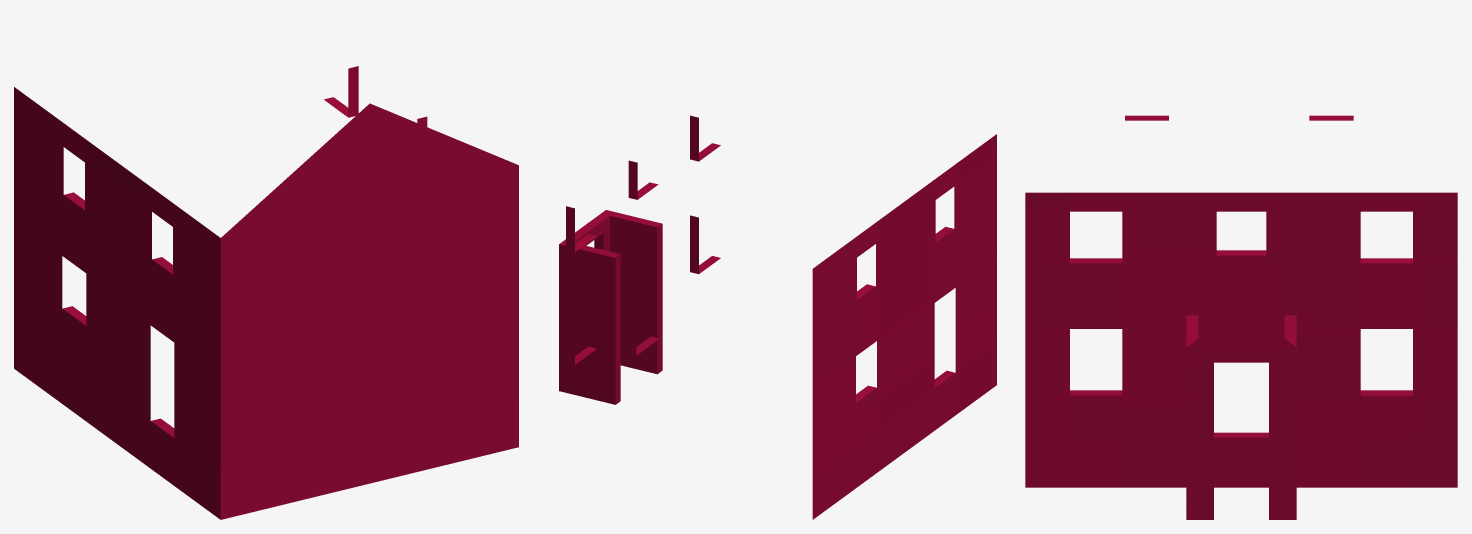
Rendered from SM_Bld_101_Masonry.glb.
3 views of the same model, side by side, from view 1: azimuth 30°, elevation 25°; view 2: azimuth 150°, elevation 25°; view 3: azimuth 270°, elevation 25° (orthographic). The views are drawn at different scales.
Visible parts, largest first — view 1: SM_Bld_101_Masonry; view 2: SM_Bld_101_Masonry; view 3: SM_Bld_101_Masonry.
Boxes of the visible parts, x1,y1,x2,y2 form: SM_Bld_101_Masonry: (14,66,518,519); SM_Bld_101_Masonry: (559,115,996,519); SM_Bld_101_Masonry: (1025,115,1457,519).
Bounding box in the file's own units: 7.92 × 7.96 × 7.84.
